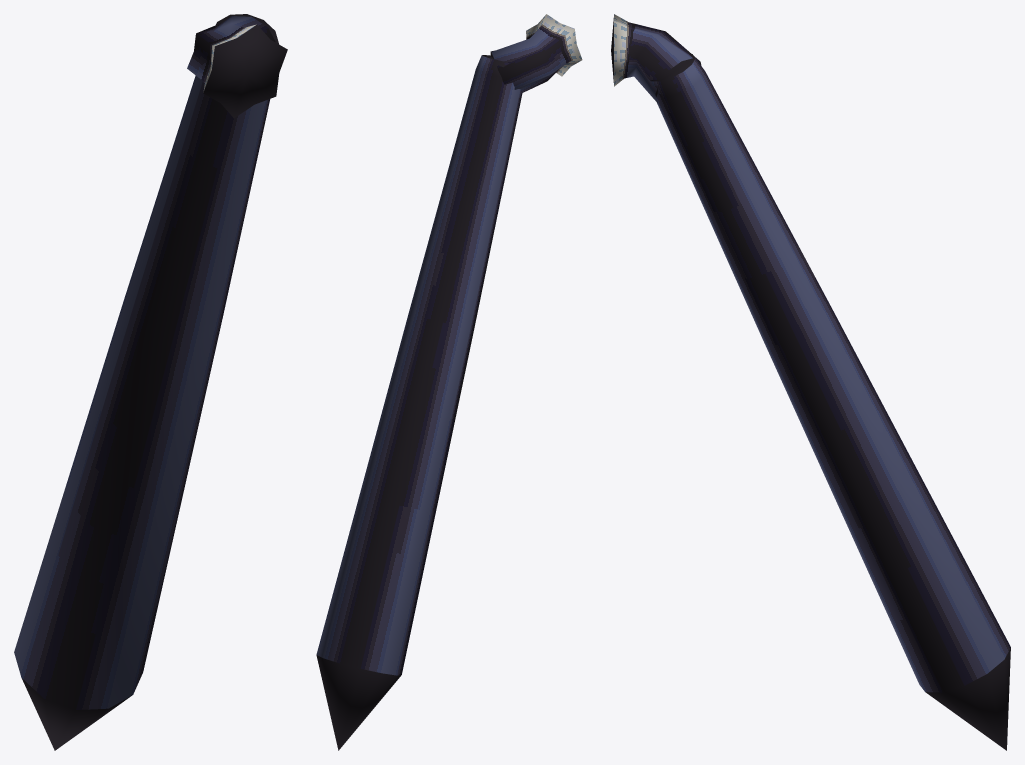
File: blade_hand.glb
The picture shows the model from 3 angles, left to right: view 1: azimuth 30°, elevation 25°; view 2: azimuth 150°, elevation 25°; view 3: azimuth 270°, elevation 25°; orthographic projection. The views are drawn at different scales.
Visible parts, largest first — view 1: arm_forearm, arm_cuff; view 2: arm_forearm, arm_cuff; view 3: arm_forearm, arm_cuff.
Boxes of the visible parts, bbox=[...] form: arm_forearm: bbox=[14, 14, 278, 750]; arm_cuff: bbox=[187, 16, 287, 117]; arm_forearm: bbox=[316, 55, 522, 750]; arm_cuff: bbox=[490, 14, 582, 92]; arm_forearm: bbox=[650, 54, 1010, 750]; arm_cuff: bbox=[611, 14, 701, 102].
Bounding box in the file's own units: 0.266 × 1.46 × 0.7448.
1 material, 1 textured.
